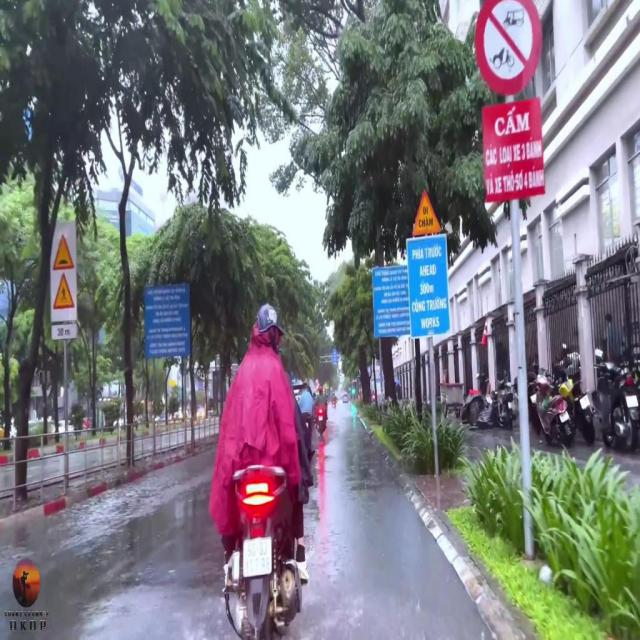cam_cac_loai_xe_3_banh: (474, 0, 544, 97)
chu_y_nguoi_di_bo_cat_ngang: (54, 274, 74, 308)
di_cham: (411, 187, 441, 234)
duong_co_song_map_mo_nhan_tao: (51, 234, 75, 272)
khac: (52, 326, 77, 338)
